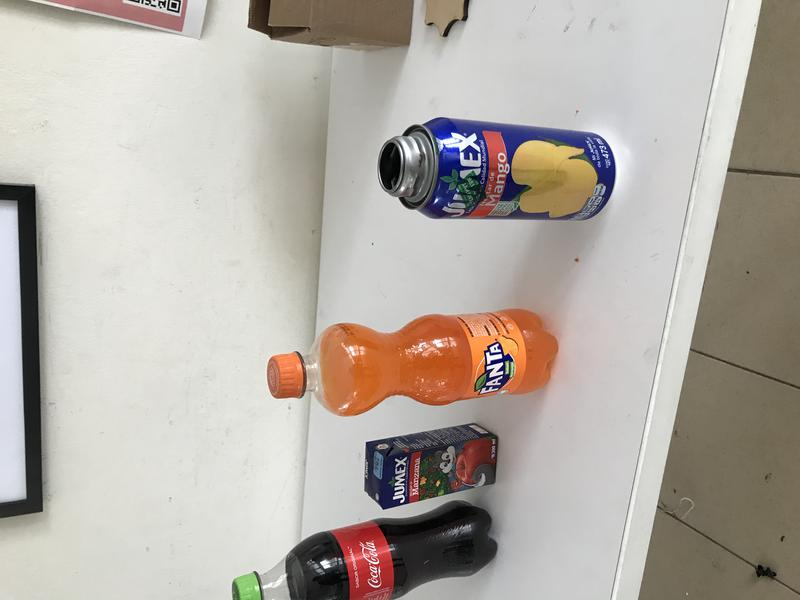coca_cola: (233, 500, 499, 600)
fanta: (267, 309, 559, 417)
jumex_botella: (378, 117, 616, 221)
jumex_cajita: (364, 421, 499, 510)
